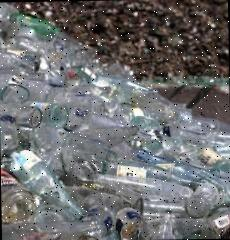glass: (0, 74, 230, 240)
